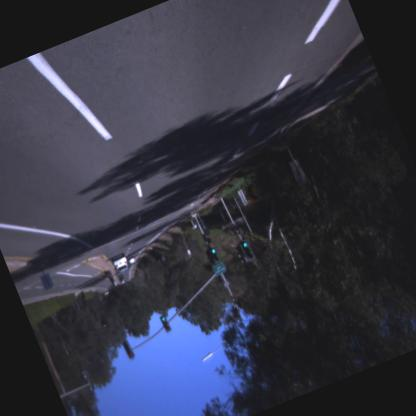trafficlight: (238, 239, 254, 262), (122, 337, 136, 360), (207, 244, 220, 263), (159, 312, 171, 332)
